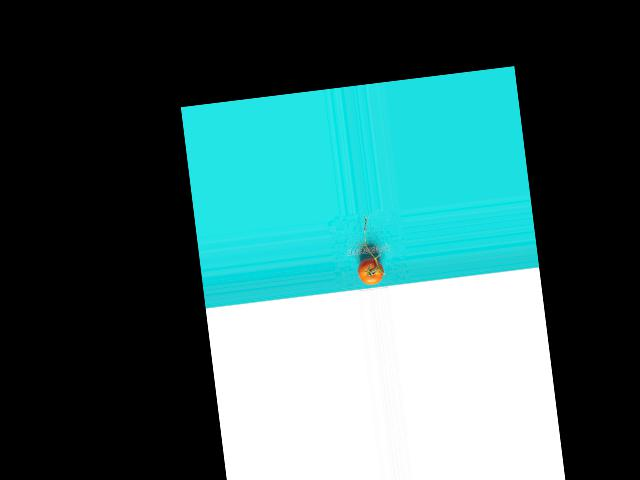tomato: (356, 257, 385, 285)
